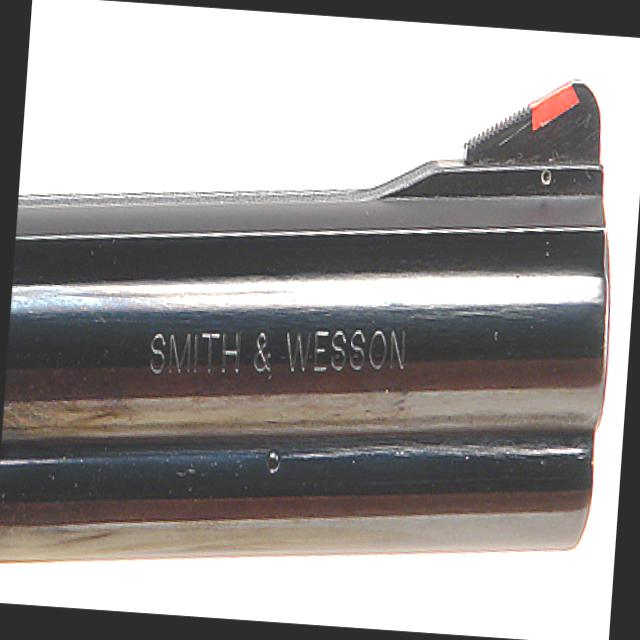handgun: (0, 34, 626, 605)
